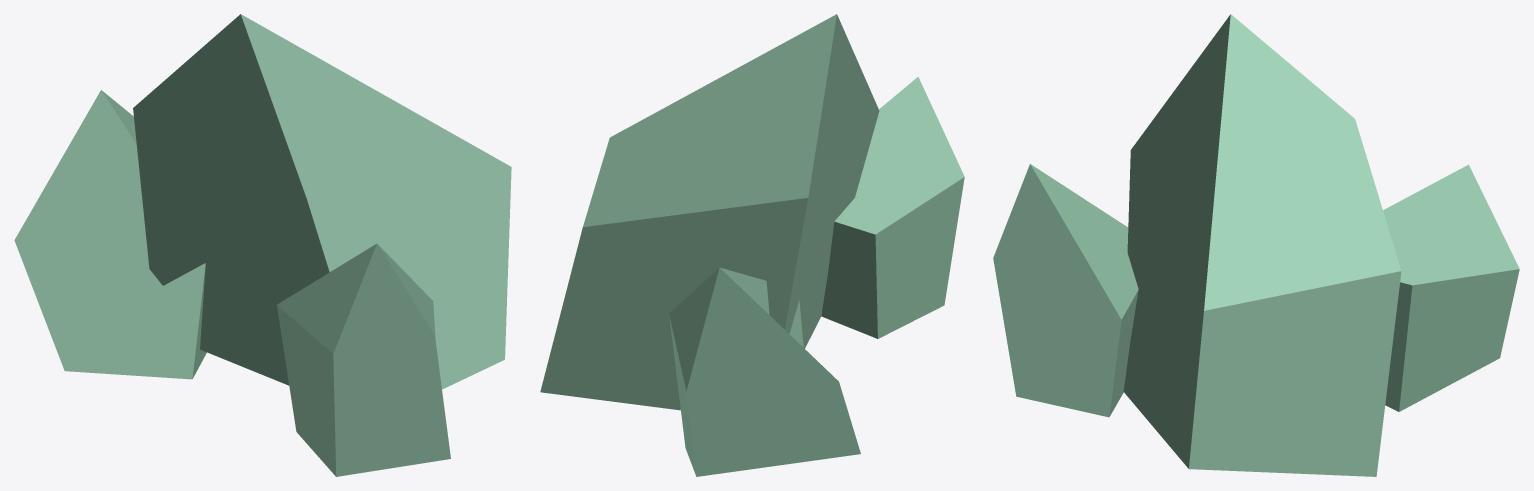
The model's file is stone_1.obj.
The picture shows the model from 3 angles, left to right: view 1: azimuth 30°, elevation 25°; view 2: azimuth 150°, elevation 25°; view 3: azimuth 270°, elevation 25°; orthographic projection. The views are drawn at different scales.
Parts seen in each view (by area): view 1: Cube.001; view 2: Cube.001; view 3: Cube.001.
Part boxes in pixels (<box>): Cube.001: <box>14,14,511,476</box>; Cube.001: <box>540,14,964,476</box>; Cube.001: <box>993,14,1519,476</box>.
Size of the model in its own units: 3.11 by 3.29 by 4.26.
